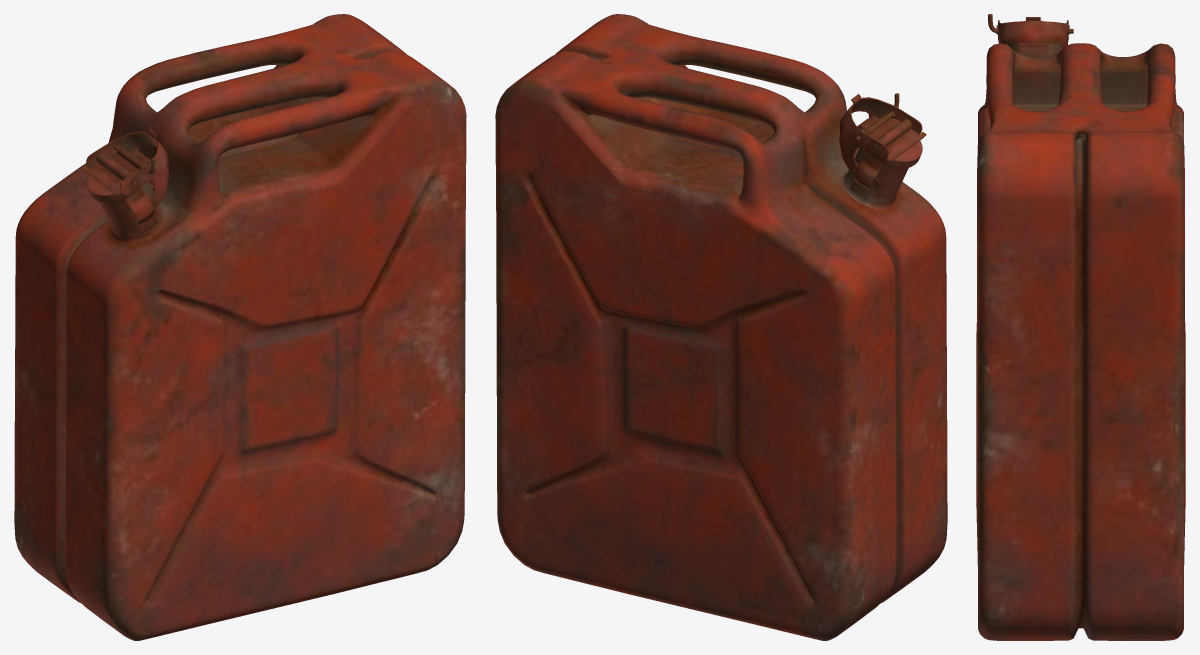
The model's file is metal_jerrycan.glb.
3 renders of one model, left to right at view 1: azimuth 30°, elevation 25°; view 2: azimuth 150°, elevation 25°; view 3: azimuth 270°, elevation 25°, orthographic. The views are drawn at different scales.
Visible parts, largest first — view 1: metal_jerrycan; view 2: metal_jerrycan; view 3: metal_jerrycan.
Boxes of the visible parts, x1=… form: metal_jerrycan: x1=14, y1=14, x2=466, y2=640; metal_jerrycan: x1=495, y1=14, x2=947, y2=640; metal_jerrycan: x1=976, y1=14, x2=1185, y2=640.
Bounding box in the file's own units: 0.3503 × 0.4552 × 0.1718.
1 material, 1 textured.
